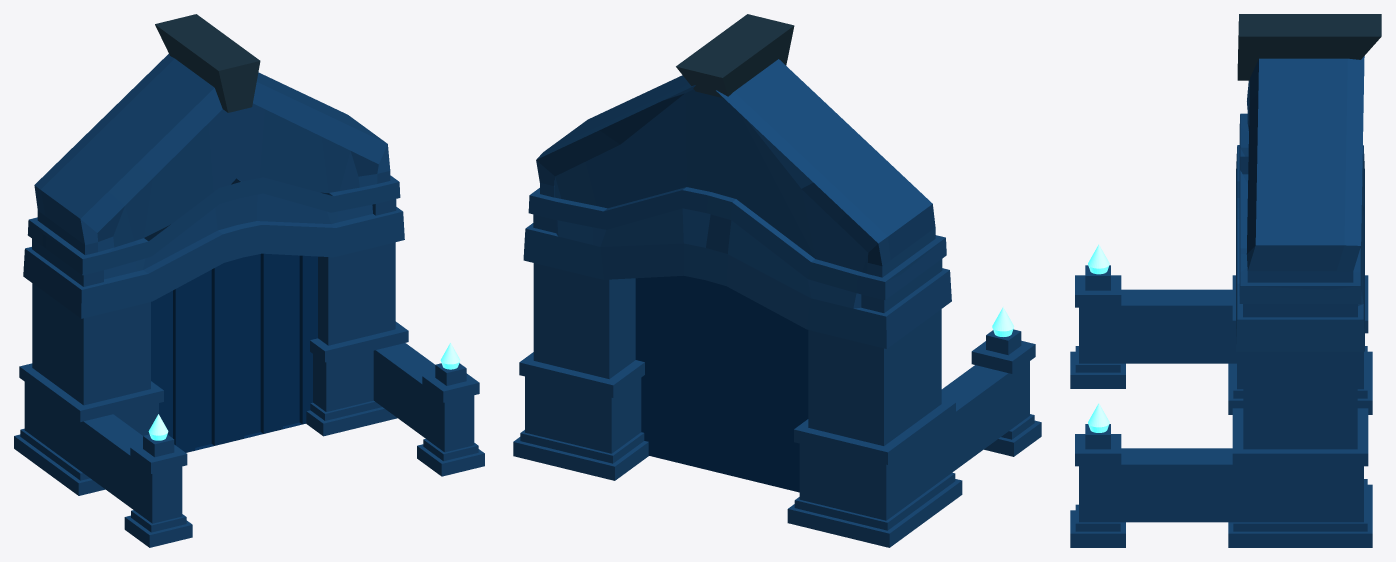
The model's file is Runic_Door.fbx.
3 renders of one model, left to right at view 1: azimuth 30°, elevation 25°; view 2: azimuth 150°, elevation 25°; view 3: azimuth 270°, elevation 25°, orthographic. The views are drawn at different scales.
Parts seen in each view (by area): view 1: Cube.001, Cube.002, Cube; view 2: Cube.001, Cube.002, Cube; view 3: Cube.001, Cube.
Boxes of the visible parts, left/top/right/bottom form: Cube.001: left=14, top=54, right=484, bottom=547; Cube.002: left=151, top=253, right=317, bottom=452; Cube: left=155, top=14, right=260, bottom=112; Cube.001: left=513, top=59, right=1041, bottom=547; Cube.002: left=635, top=275, right=808, bottom=492; Cube: left=676, top=14, right=794, bottom=98; Cube.001: left=1070, top=56, right=1372, bottom=547; Cube: left=1237, top=14, right=1381, bottom=80.
Bounding box in the file's own units: 137 × 150 × 98.51.
